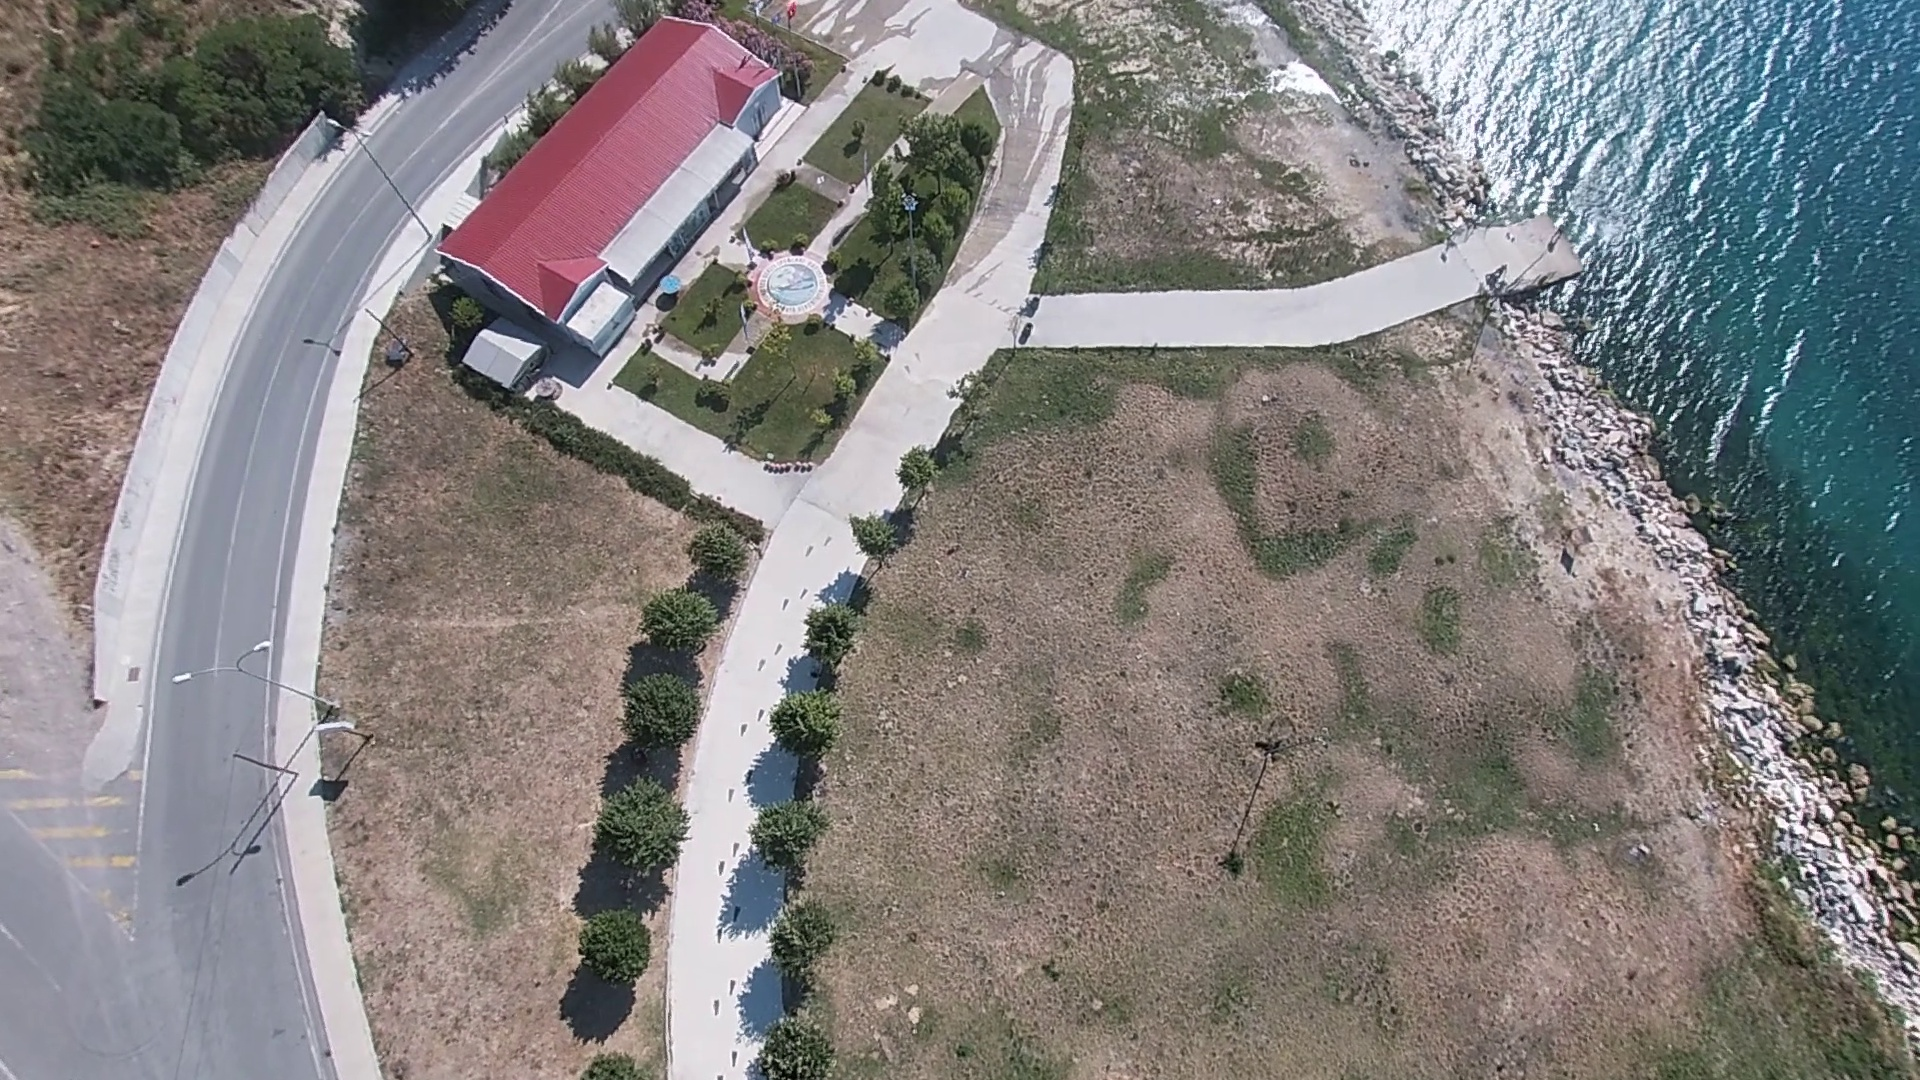insan: (1552, 212, 1584, 254)
